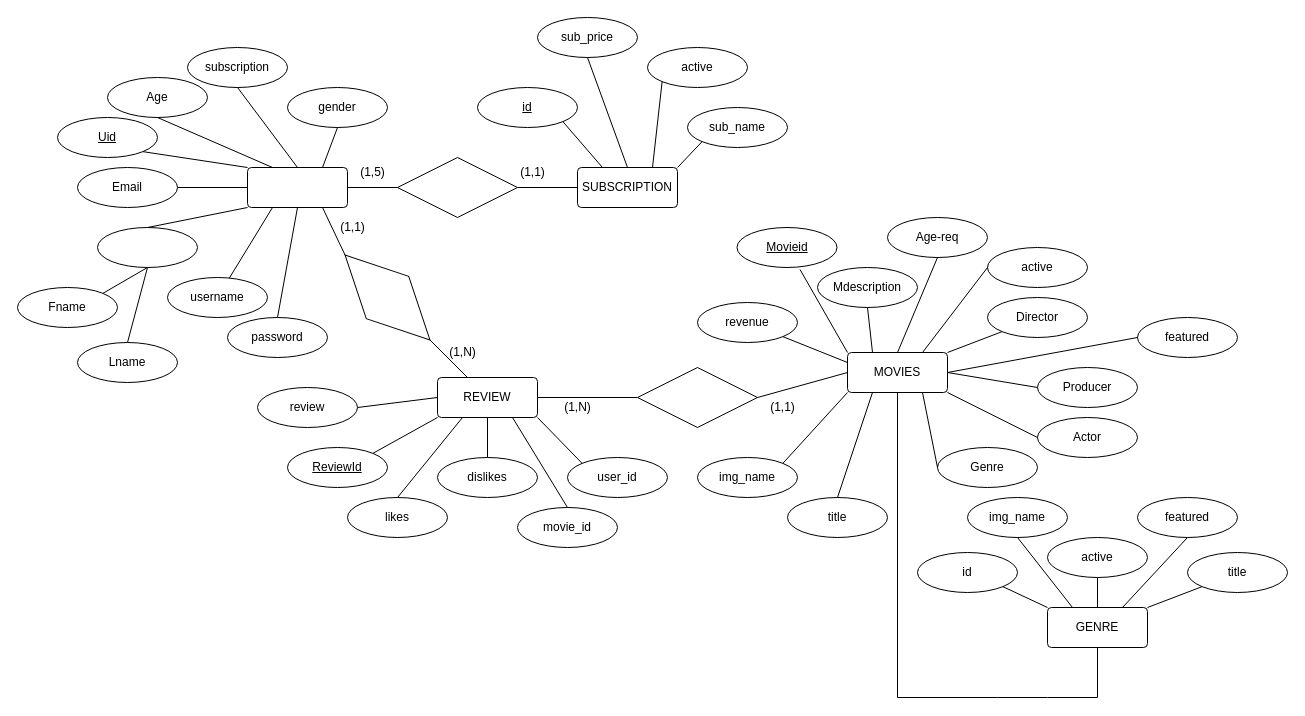
Some shapes in this 1305 by 716 pixel diagram are drawn without their labels. Each missing label, with the centre of its shape:
gives: [387,297]
Name: [147,247]
reviews: [697,397]
subscribes: [457,187]
USER: [297,187]
